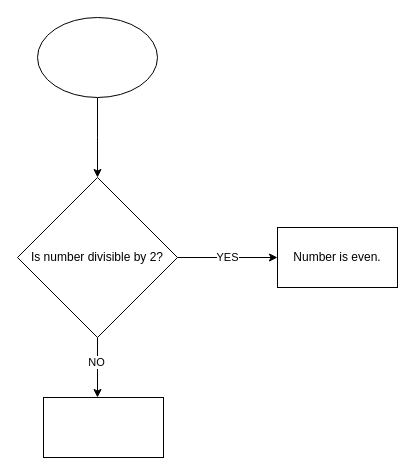
Some shapes in this 415 by 475 pixel diagram are drawn without their labels. The centre of each missing label's shape, as x and y in pixels:
"Find if number is even or odd." belongs at (x=97, y=57).
"Number is odd." belongs at (x=103, y=427).
